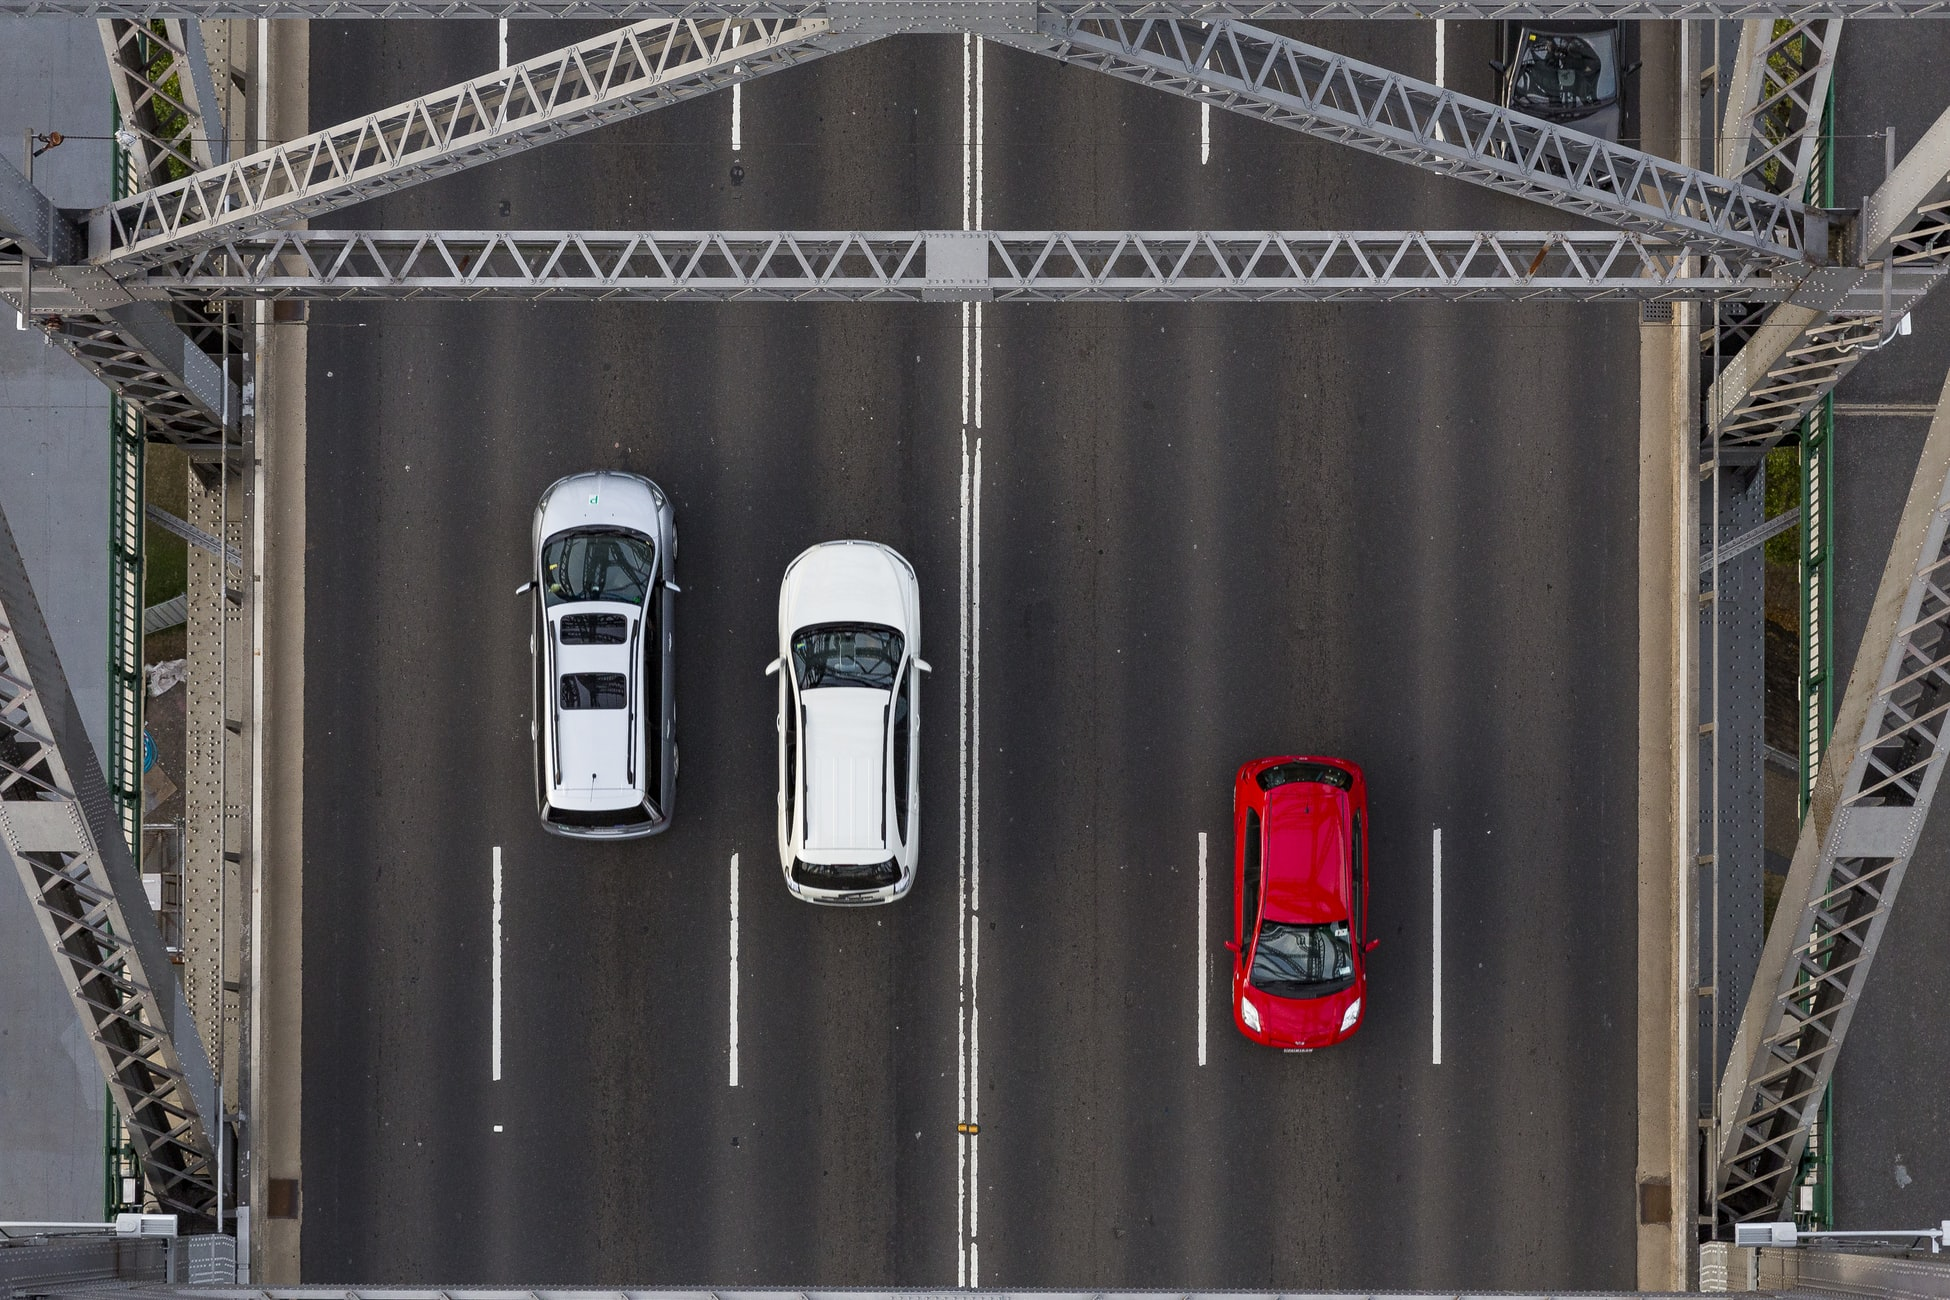car: (753, 532, 937, 914), (514, 464, 686, 844), (1223, 750, 1389, 1053)
